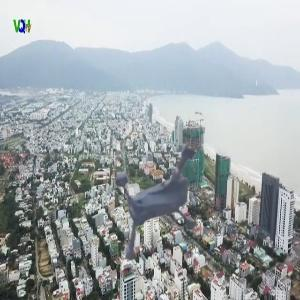drone: (91, 112, 233, 254)
